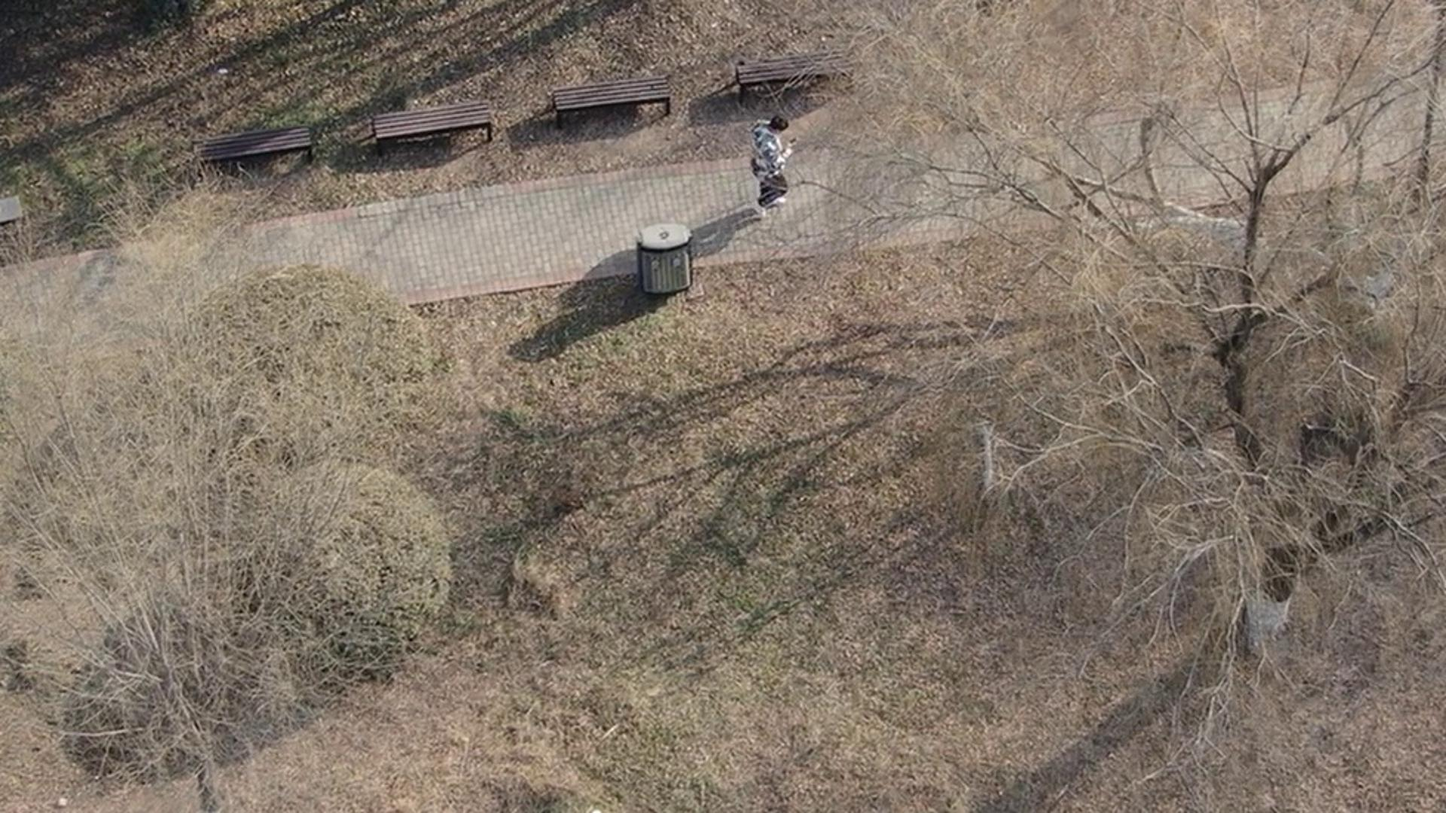human: (750, 129, 803, 237)
